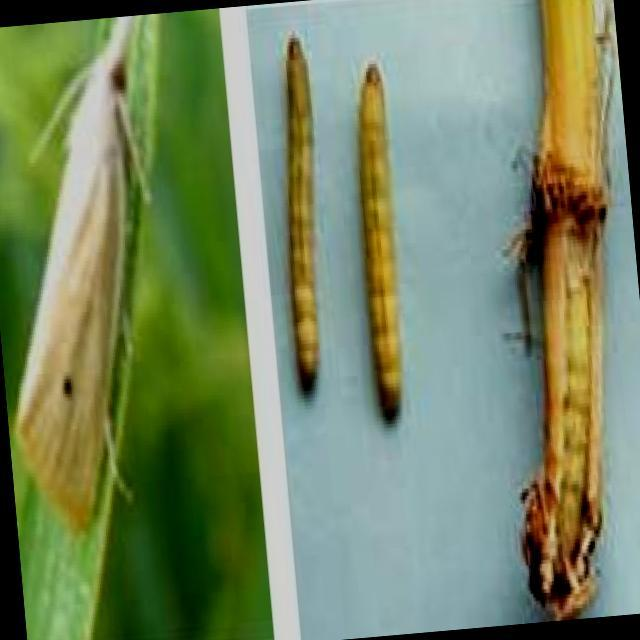stem borer: (17, 19, 149, 531), (360, 64, 399, 422), (286, 39, 319, 396)
